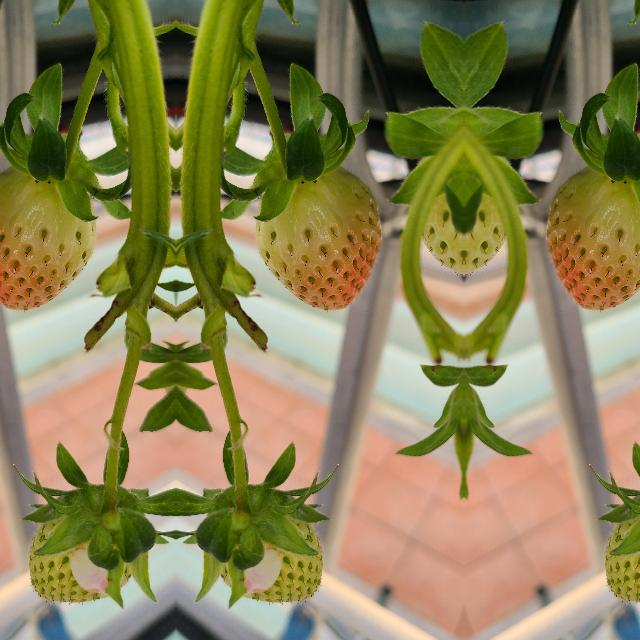Health_25: (203, 481, 327, 602), (23, 481, 147, 602), (599, 480, 640, 601)
Health_50: (255, 166, 382, 310), (544, 166, 640, 310), (0, 166, 95, 310)
